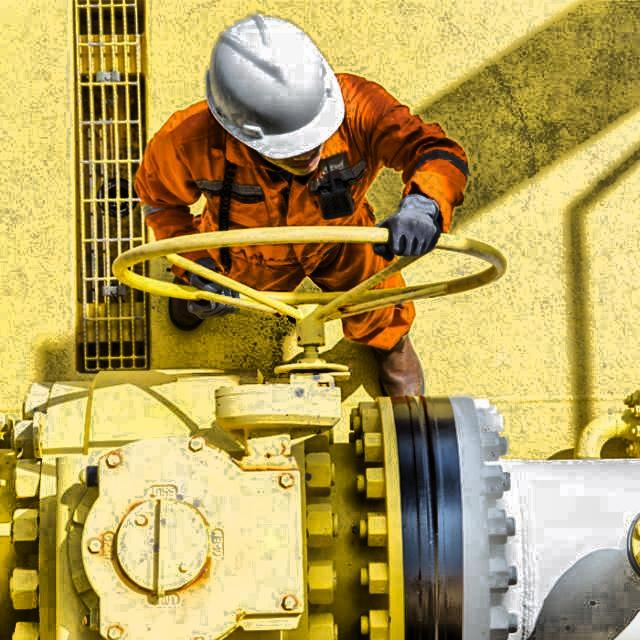person: (136, 12, 446, 390)
